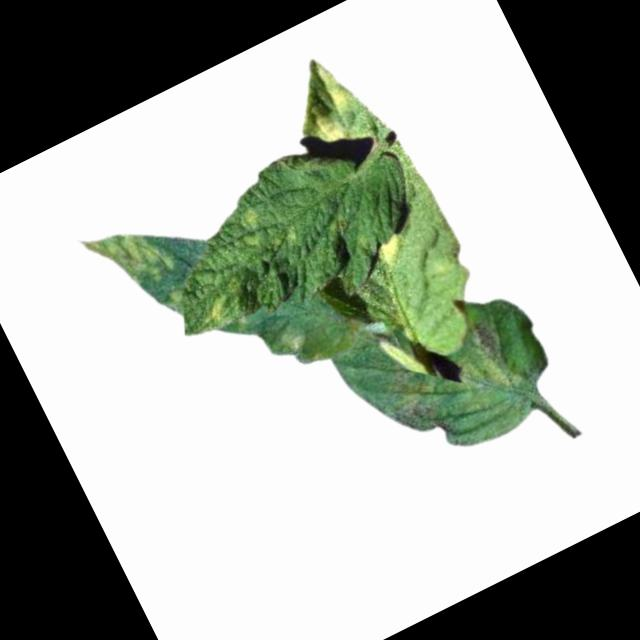Leaf_Mold: (75, 204, 177, 305), (441, 310, 526, 406), (313, 57, 358, 117), (371, 230, 412, 273), (197, 290, 237, 330), (309, 112, 347, 154), (229, 203, 265, 237)
